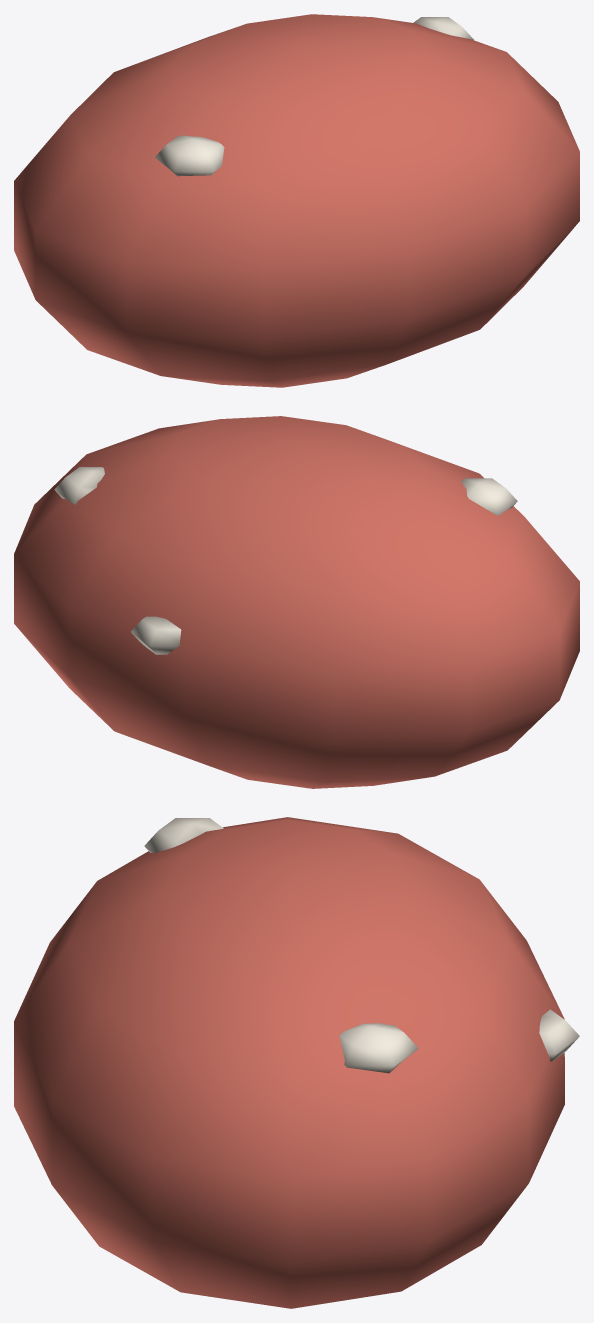
Rendered from forage_tuber.glb.
3 views of the same model, one above another, from view 1: azimuth 30°, elevation 25°; view 2: azimuth 150°, elevation 25°; view 3: azimuth 270°, elevation 25° (orthographic). The views are drawn at different scales.
Visible parts, largest first — view 1: PART; view 2: PART; view 3: PART.
Boxes of the visible parts, left/top/right/bottom form: PART: left=14, top=14, right=579, bottom=387; PART: left=14, top=416, right=579, bottom=788; PART: left=14, top=817, right=579, bottom=1308.
Bounding box in the file's own units: 0.0921 × 0.0525 × 0.0701.
